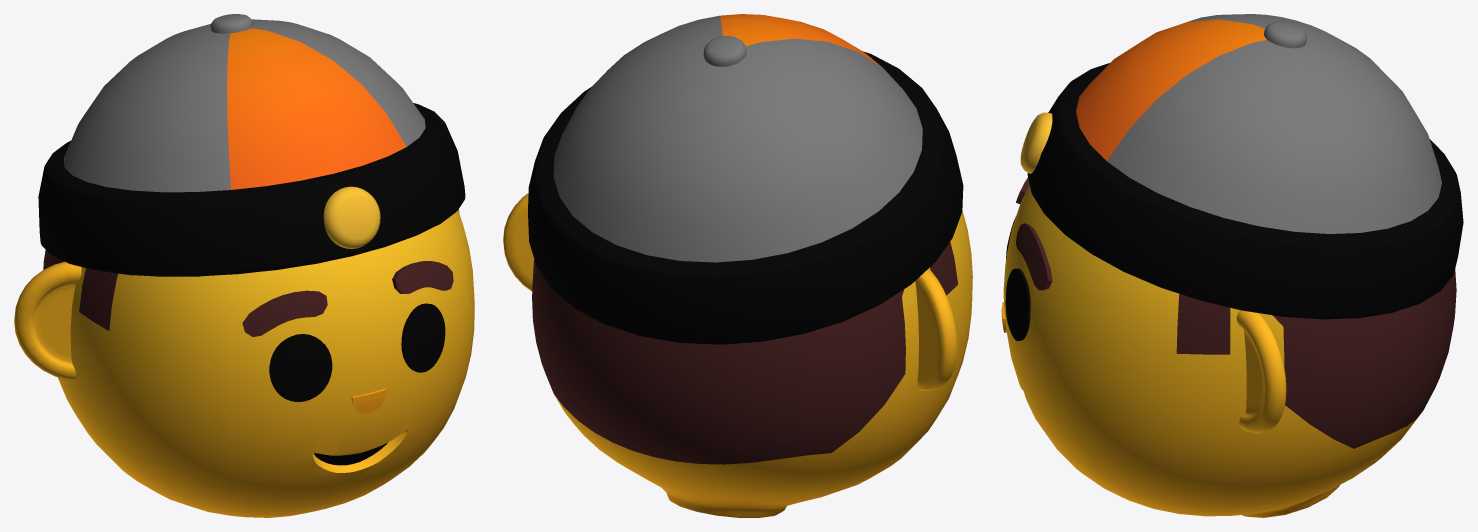
The model's file is person_with_skullcap.fbx.
3 renders of one model, left to right at view 1: azimuth 30°, elevation 25°; view 2: azimuth 150°, elevation 25°; view 3: azimuth 270°, elevation 25°, orthographic. The views are drawn at different scales.
Visible parts, largest first — view 1: Sphere.140, Roundcube.168, Circle.852, Cylinder.138, Circle.854, Circle.853; view 2: Sphere.140, Roundcube.168, Cylinder.138; view 3: Sphere.140, Roundcube.168, Cylinder.138, Circle.854, Circle.852.
Part boxes in pixels (box(x1,y1,x2,y2)): Sphere.140: box(38, 14, 465, 276); Roundcube.168: box(43, 210, 474, 517); Circle.852: box(269, 303, 445, 401); Cylinder.138: box(14, 209, 459, 380); Circle.854: box(242, 261, 453, 336); Circle.853: box(351, 388, 386, 413); Sphere.140: box(528, 14, 963, 344); Roundcube.168: box(532, 210, 972, 517); Cylinder.138: box(503, 193, 957, 390); Sphere.140: box(1020, 14, 1463, 319); Roundcube.168: box(1003, 185, 1456, 517); Cylinder.138: box(1236, 310, 1286, 433); Circle.854: box(1016, 177, 1052, 290); Circle.852: box(1005, 217, 1030, 341).
Size of the model in its own units: 176 by 176 by 155.
2 materials, 2 textured.
